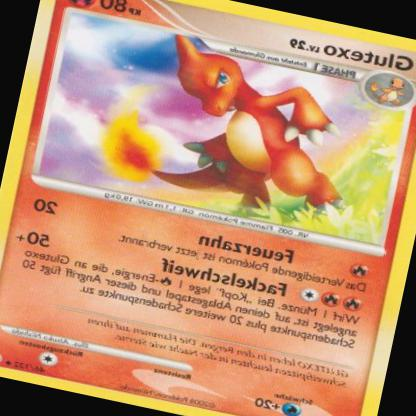Charmeleon: (124, 38, 359, 232)
